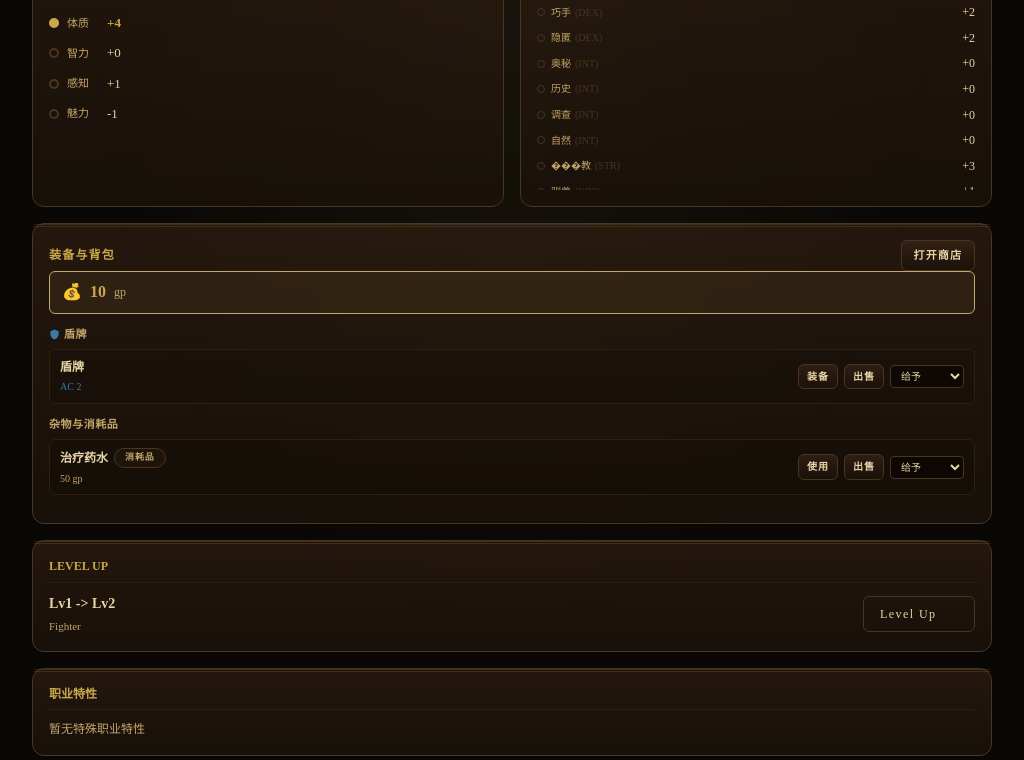
CharacterSheet inventory integration › refreshes sheet stats after equipping an item
(page scrolled)
Click the button "装备" at (818, 376), box [798,364,838,389]
(page scrolled)
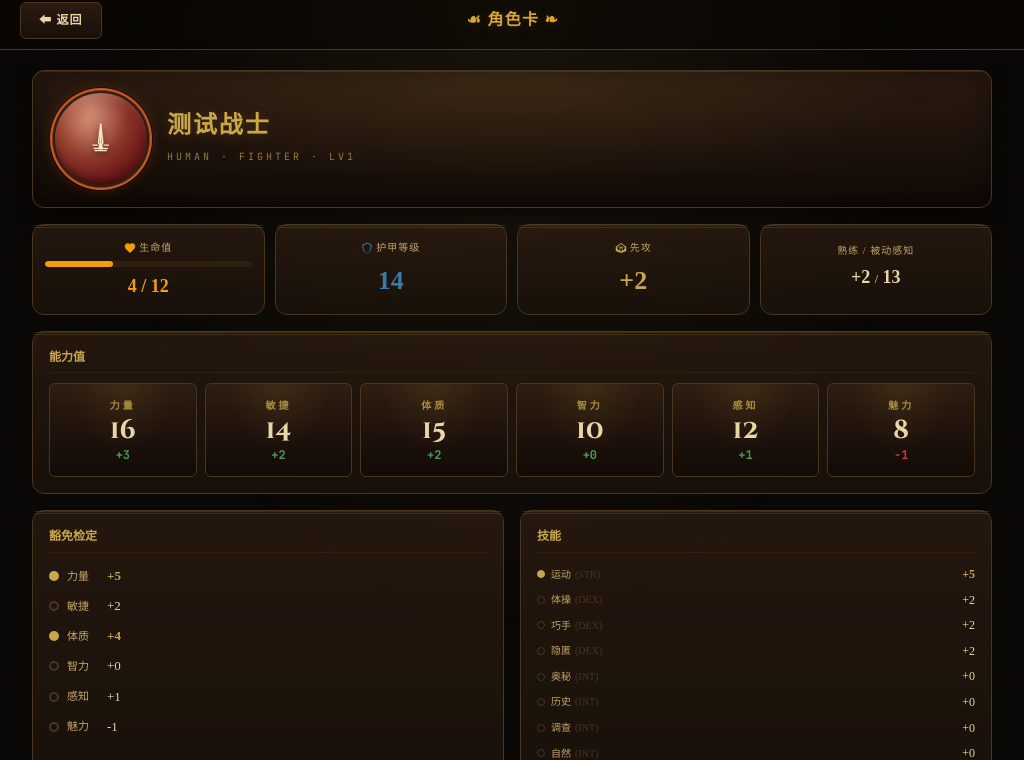
Expected: the text "14" below "护甲等级" is shown, [378,266,404,295]
